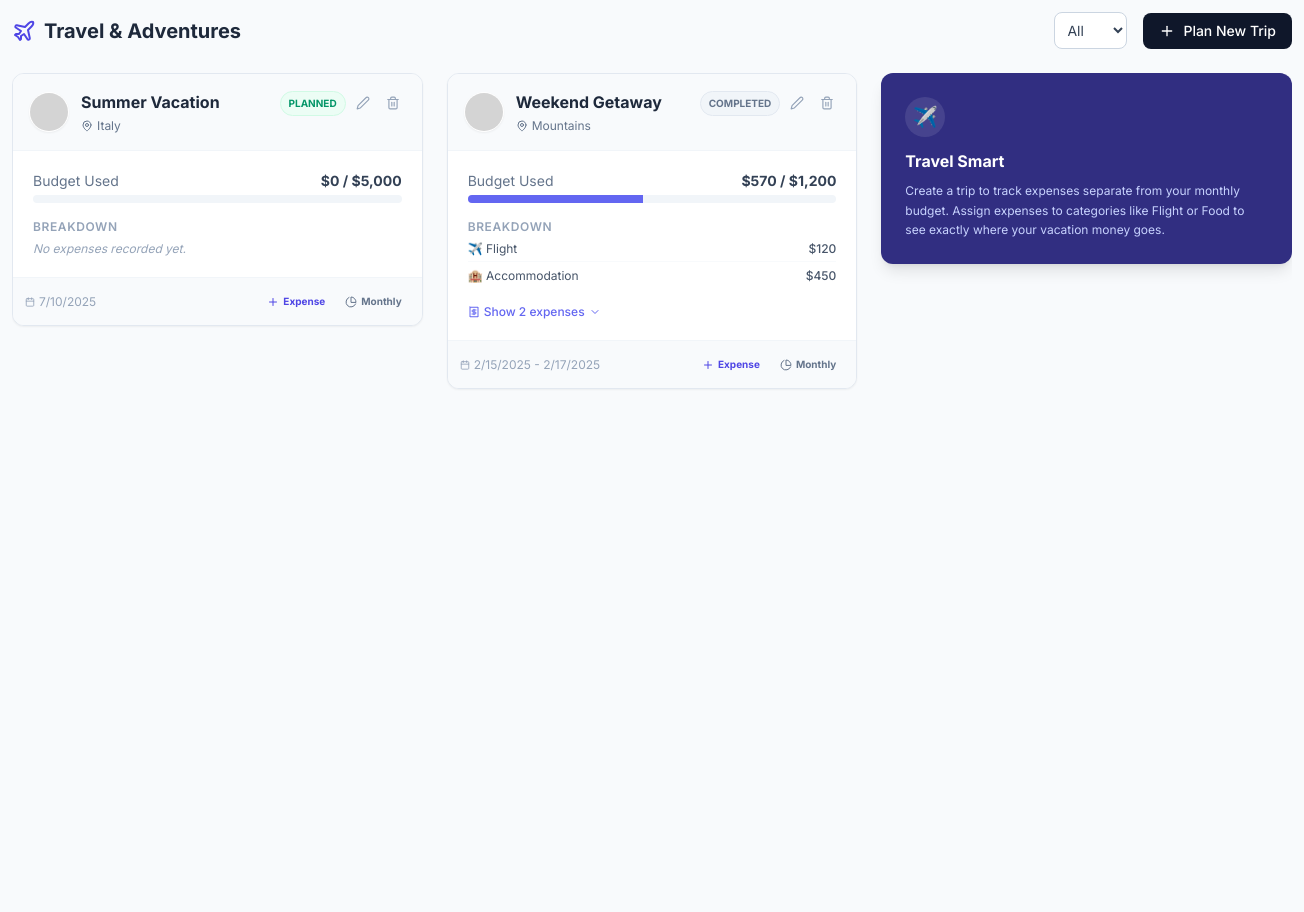
Test case: TravelDashboard › opens trip form when Plan New Trip is clicked
Step 1. Click the button "Plan New Trip" → [1218, 30], box [1143, 12, 1292, 48]
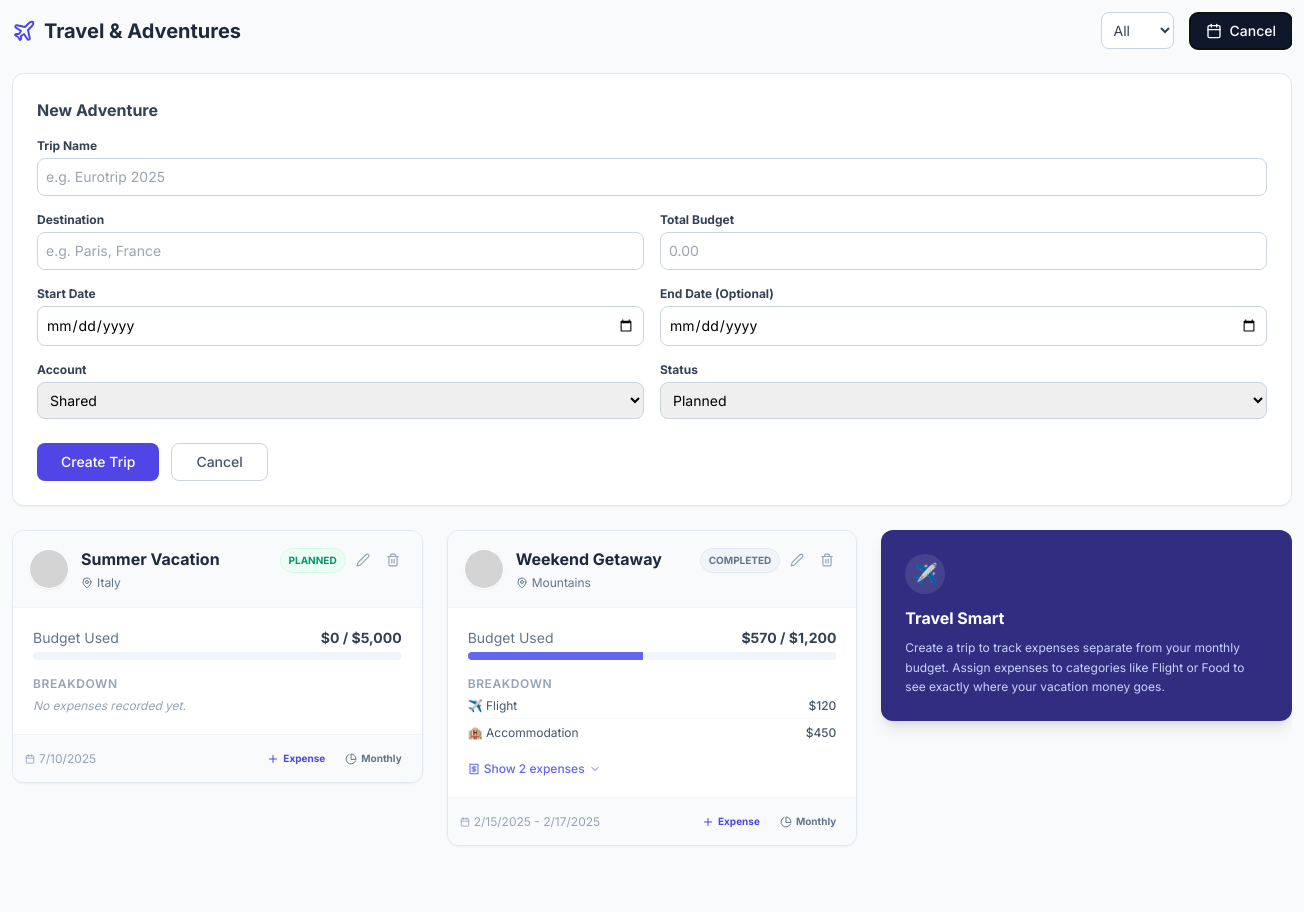
Now the heading "New Adventure" is shown, box [37, 100, 158, 120]
